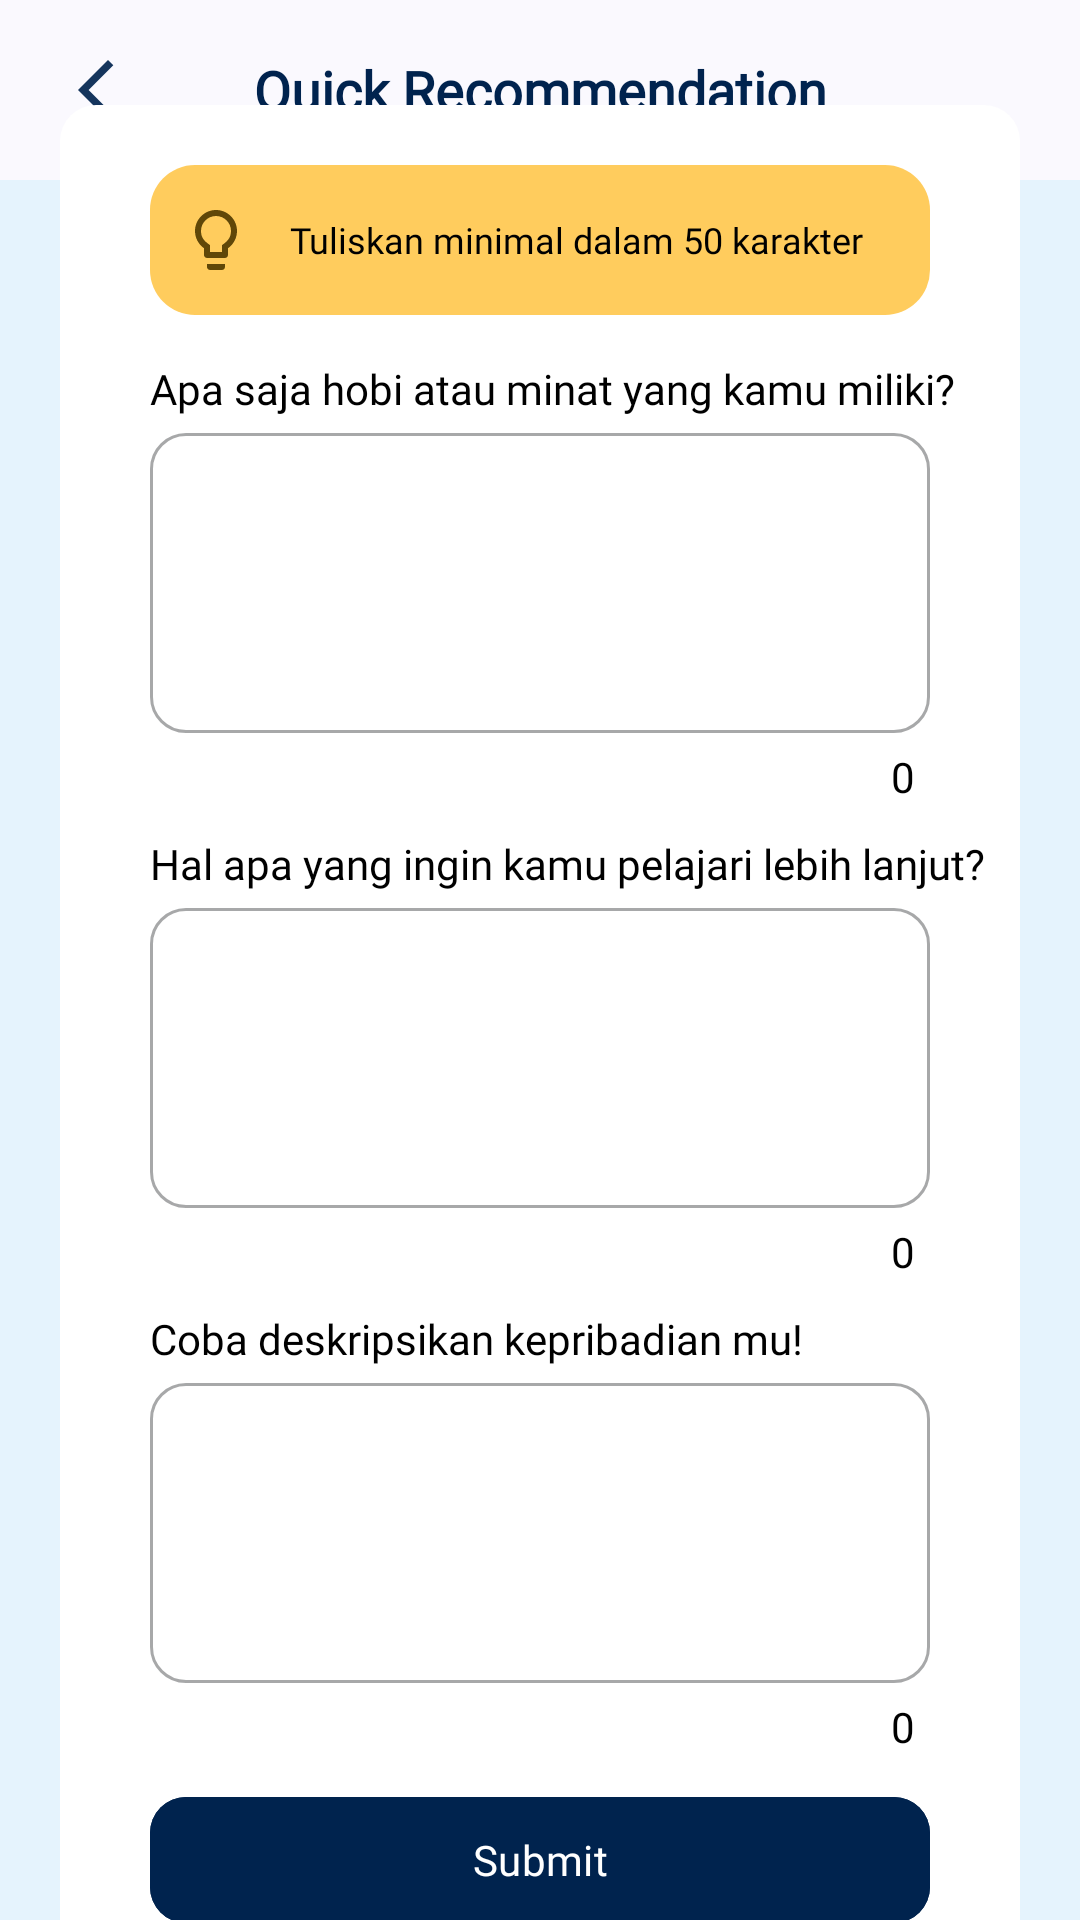

Where icons sit on this 1080 × 1920 app screen, as (x1, y1, x2, y2):
Kembali: (78, 60, 113, 106)
